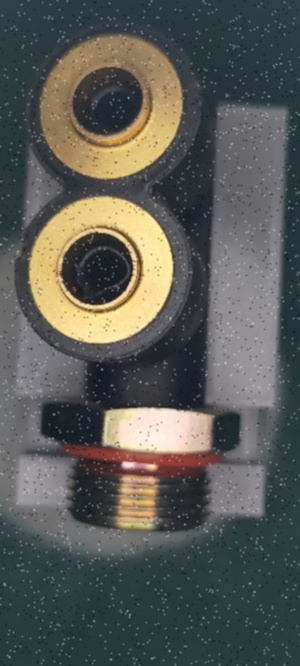bump: (13, 233, 32, 272), (187, 62, 205, 96)
off-centered: (71, 241, 139, 301)
white mark: (129, 383, 140, 402)
